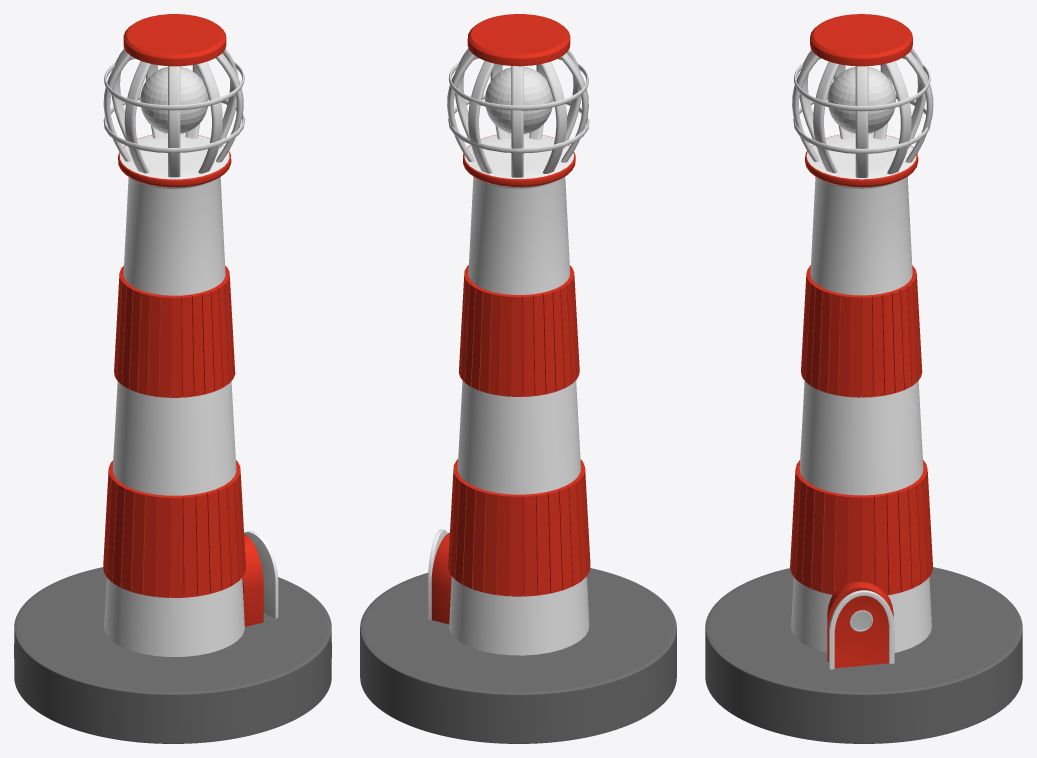
The model's file is mercusuar2.fbx.
3 renders of one model, left to right at view 1: azimuth 30°, elevation 25°; view 2: azimuth 150°, elevation 25°; view 3: azimuth 270°, elevation 25°, orthographic.
Visible parts, largest first — view 1: Cylinder, Cylinder.002, Cylinder.001, Sphere, Cube.002, BezierCurve.006, Cube.003, BezierCurve.005, BezierCurve.007, Torus.001, Torus, BezierCurve.004 (+2 smaller); view 2: Cylinder, Cylinder.002, Cylinder.001, Sphere, Cube.002, BezierCurve.003, BezierCurve.002, BezierCurve.004, Torus.001, Torus, BezierCurve.001, BezierCurve.005 (+1 smaller); view 3: Cylinder, Cylinder.002, Cylinder.001, Cube.003, Sphere, BezierCurve, BezierCurve.001, BezierCurve.008, Cube.002, Torus.001, Torus, BezierCurve.002 (+2 smaller).
Part boxes in pixels (x1,y1,x2,y2): Cylinder: [103, 133, 245, 656]; Cylinder.002: [14, 567, 331, 743]; Cylinder.001: [123, 14, 226, 66]; Sphere: [140, 66, 208, 133]; Cube.002: [242, 534, 263, 626]; BezierCurve.006: [168, 66, 180, 177]; Cube.003: [244, 531, 278, 618]; BezierCurve.005: [124, 61, 151, 173]; BezierCurve.007: [196, 61, 222, 173]; Torus.001: [104, 57, 244, 110]; Torus: [103, 94, 245, 153]; BezierCurve.004: [103, 52, 131, 161]; Cylinder: [448, 133, 590, 655]; Cylinder.002: [360, 568, 676, 743]; Cylinder.001: [467, 14, 570, 66]; Sphere: [485, 66, 553, 133]; Cube.002: [431, 532, 451, 624]; BezierCurve.003: [511, 66, 523, 177]; BezierCurve.002: [468, 61, 495, 173]; BezierCurve.004: [540, 61, 566, 173]; Torus.001: [448, 56, 588, 110]; Torus: [448, 94, 589, 153]; BezierCurve.001: [447, 51, 476, 161]; BezierCurve.005: [560, 53, 588, 162]; Cylinder: [790, 133, 932, 652]; Cylinder.002: [705, 567, 1022, 743]; Cylinder.001: [810, 14, 912, 66]; Cube.003: [829, 590, 894, 669]; Sphere: [827, 66, 896, 133]; BezierCurve: [855, 66, 868, 177]; BezierCurve.001: [884, 61, 911, 174]; BezierCurve.008: [813, 61, 839, 173]; Cube.002: [827, 581, 893, 661]; Torus.001: [794, 57, 930, 111]; Torus: [793, 93, 930, 153]; BezierCurve.002: [904, 52, 933, 162].
Bounding box in the file's own units: 316 × 707 × 316.
